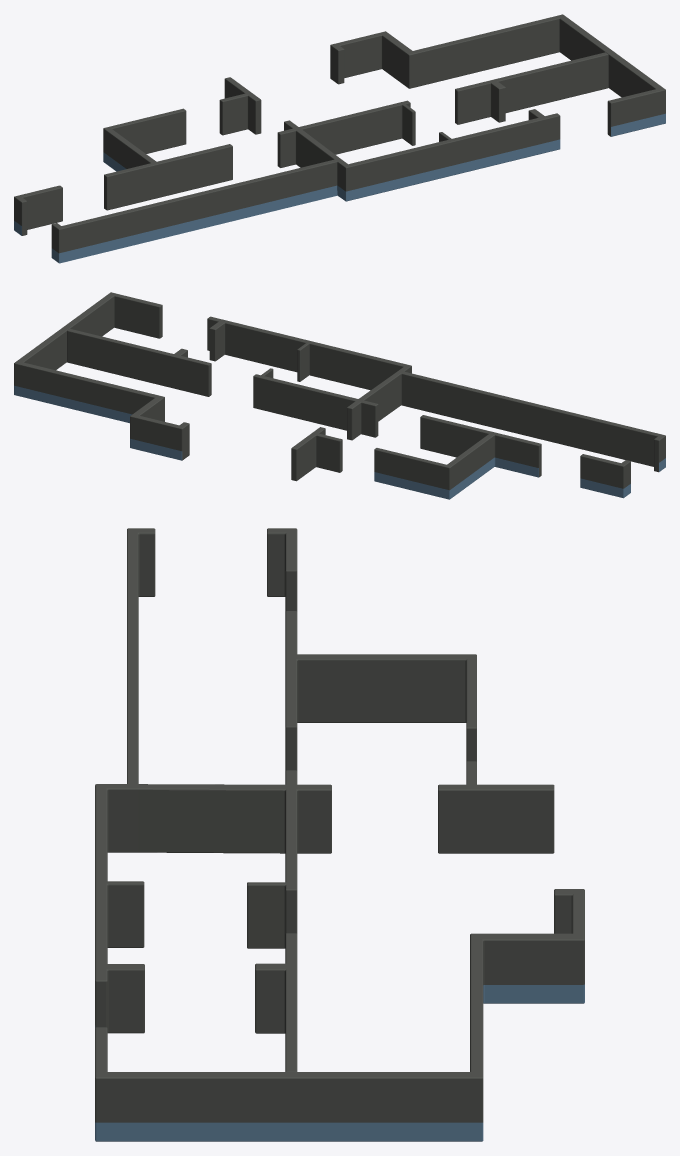
The model's file is lab_walls.fbx.
The picture shows the model from 3 angles, top to bottom: view 1: azimuth 30°, elevation 25°; view 2: azimuth 150°, elevation 25°; view 3: azimuth 270°, elevation 25°; orthographic projection. The views are drawn at different scales.
Visible parts, largest first — view 1: Lab; view 2: Lab; view 3: Lab.
Boxes of the visible parts, x1,y1,x2,y2 form: Lab: [14, 14, 665, 263]; Lab: [14, 292, 665, 499]; Lab: [95, 528, 584, 1141].
Bounding box in the file's own units: 5509 × 300 × 2074.
